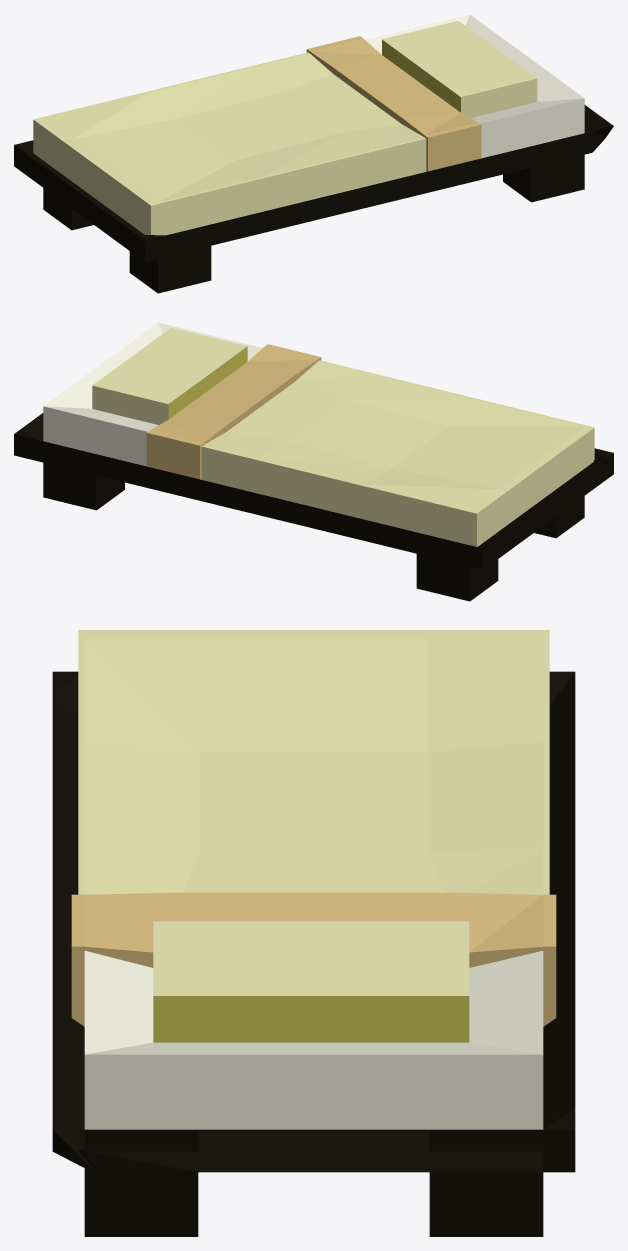
The model's file is CamaLobby.fbx.
The picture shows the model from 3 angles, top to bottom: view 1: azimuth 30°, elevation 25°; view 2: azimuth 150°, elevation 25°; view 3: azimuth 270°, elevation 25°; orthographic projection. The views are drawn at different scales.
Visible parts, largest first — view 1: Box001; view 2: Box001; view 3: Box001.
Part boxes in pixels (box(x1,y1,x2,y2)): Box001: box(14, 14, 613, 293); Box001: box(14, 322, 613, 601); Box001: box(52, 630, 575, 1236).
Size of the model in its own units: 5.79 by 1.24 by 2.77.
